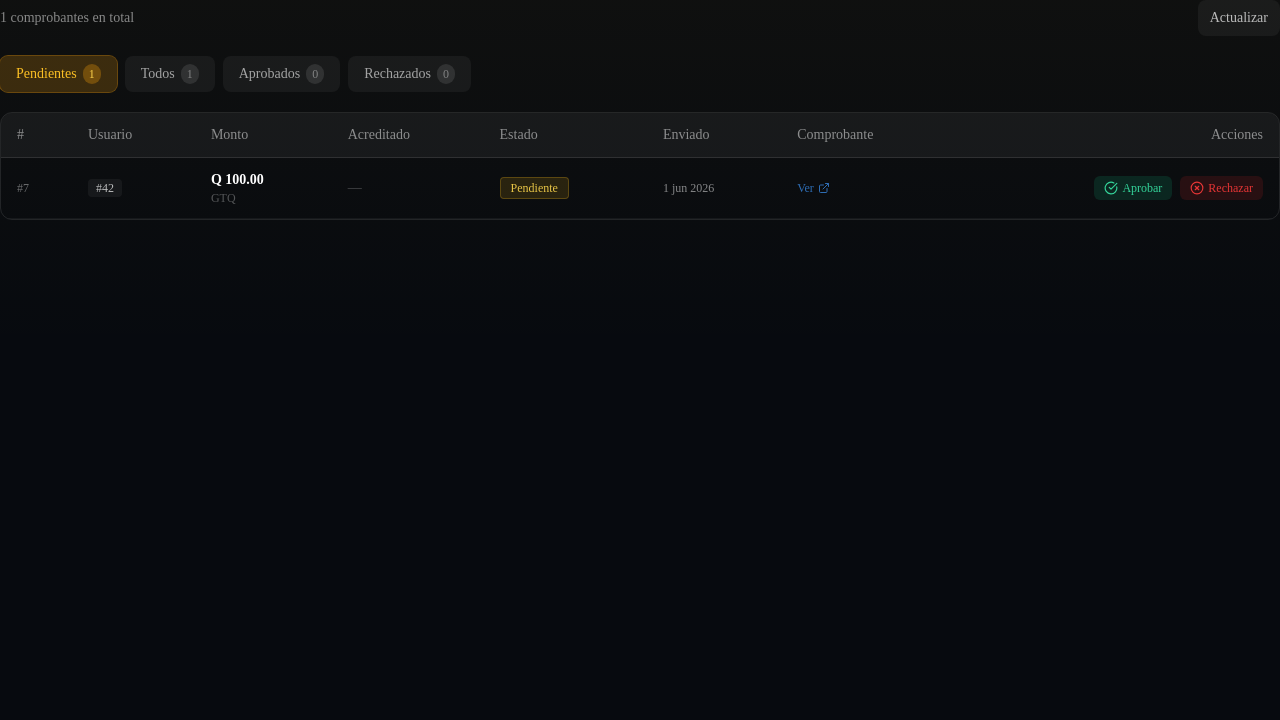
Test: BankTransfersTab – reject modal › opens reject modal when Rechazar is clicked
Click the button "Rechazar": (1222, 188) [1180,176,1263,200]
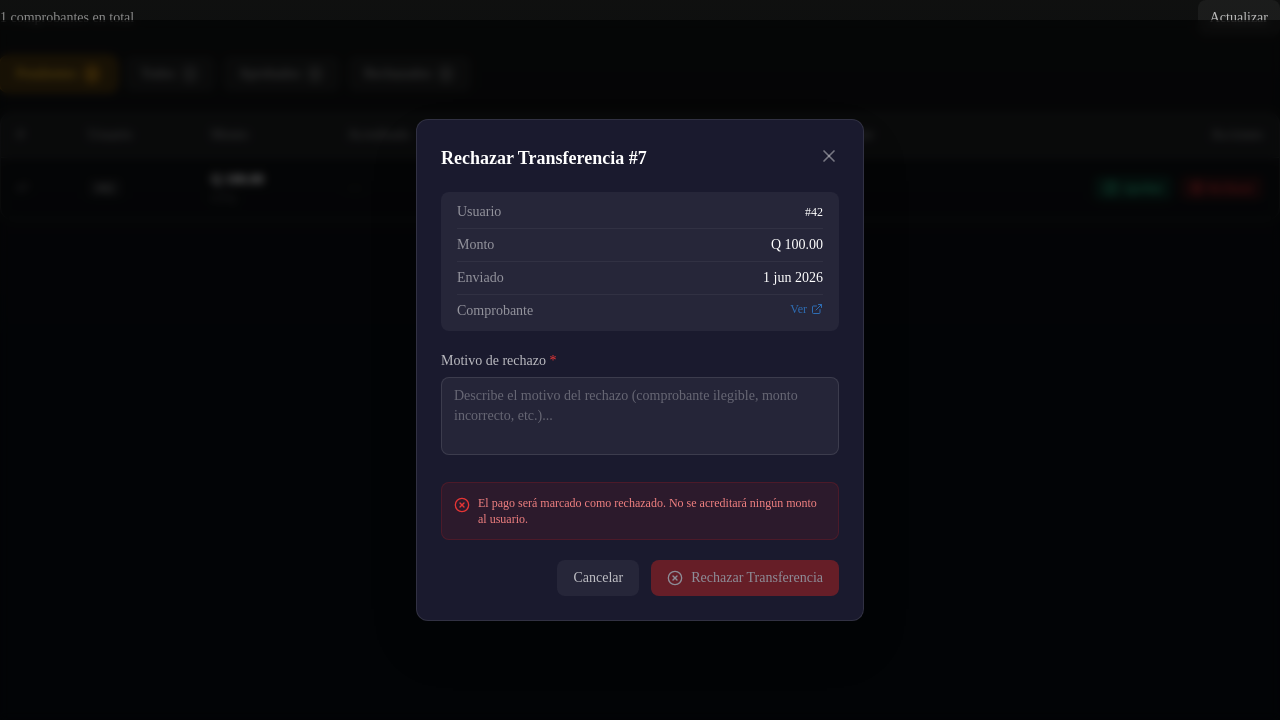
Expected: the heading "Rechazar Transferencia #7" is shown, [441,144,647,172]
